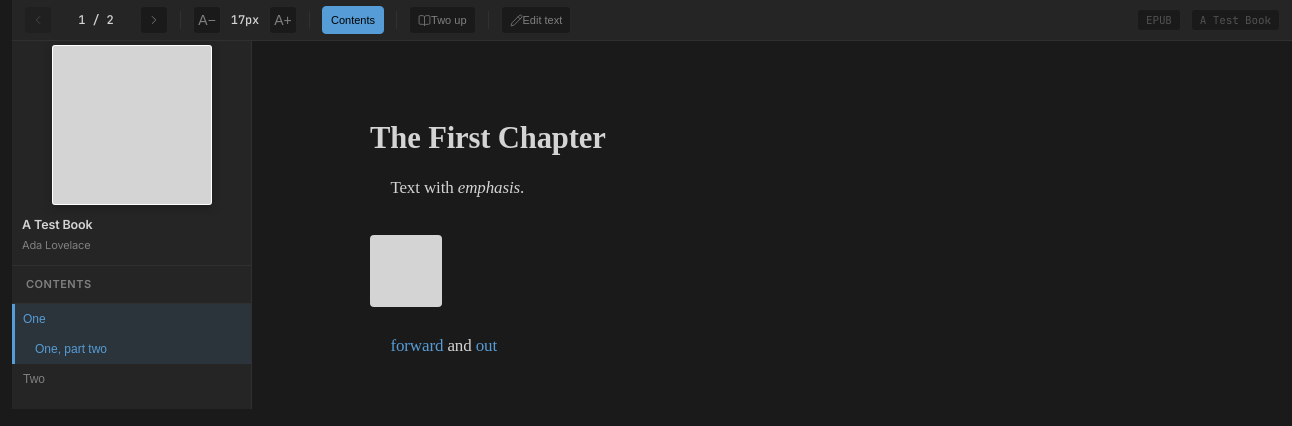
Test case: EpubViewer › moves chapter by chapter from the toolbar
Expected: the heading "The First Chapter" is shown, [370,121,606,155]
Expected: the button titled "Previous Chapter" is disabled, [24,6,52,34]
Click the button titled "Next Chapter" at (154, 20), box [140,6,168,34]
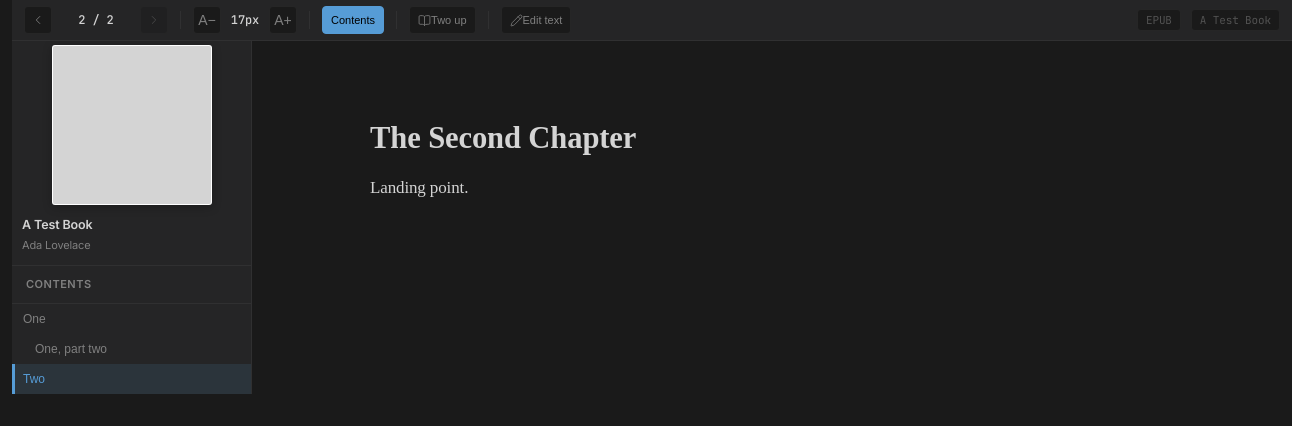
Expected: the text "Landing point." is shown, [370,178,468,197]
